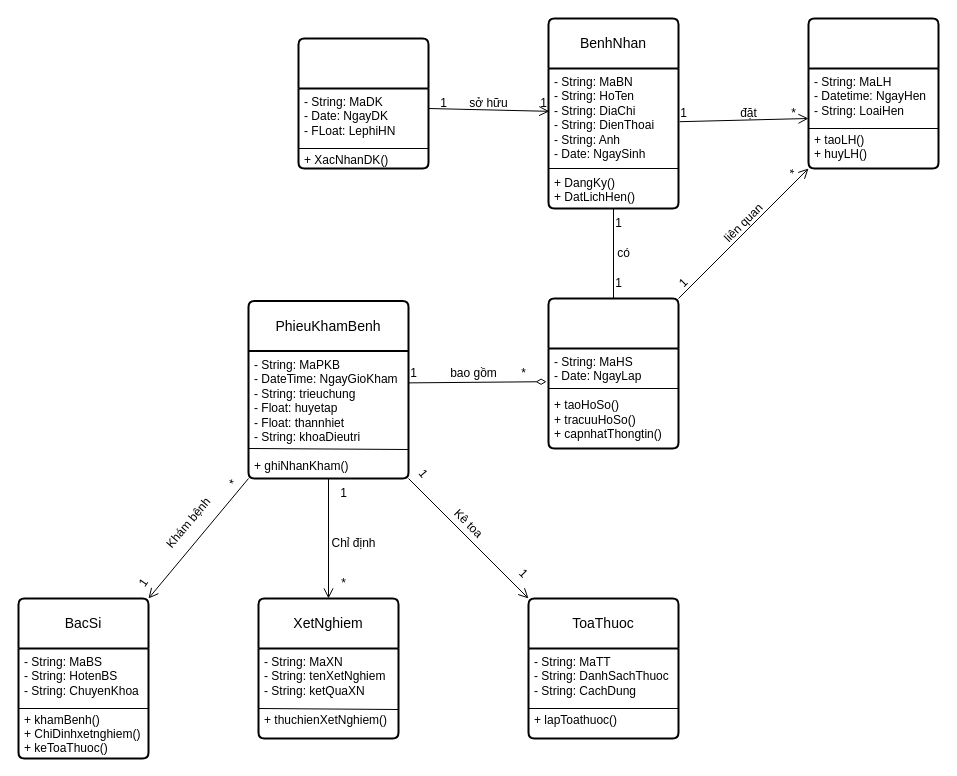
Image size: 957x776. Some labels were removed from this diagram. The box of each missing label's shape, as (x1, y1, x2, y2) in pixels:
HoSoBenhAn: (547, 297, 679, 449)
LichHen: (807, 17, 939, 169)
PhieuDangKy: (297, 37, 429, 169)
